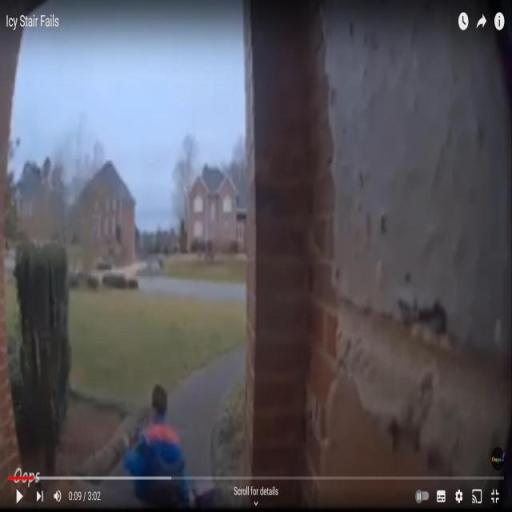Fall: (121, 378, 197, 512)
